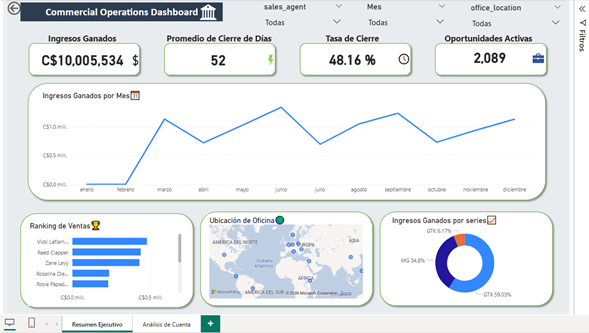

Layout of this report page (visuals, bound fields, positions):
{"tool":"powerbi","page":{"name":"Resumen Ejecutivo","canvas":[1280,720],"ordinal":0},"visuals":[{"type":"card","fields":{"Values":["sales_pipeline.Ingresos Ganados"]},"box":[39.8,113.1,272.4,46.3],"z":0},{"type":"card","fields":{"Values":["sales_pipeline.Tasa de Cierre"]},"box":[715.8,105.4,150.4,57.8],"z":1000},{"type":"actionButton","box":[0,0,100,40],"z":2000},{"type":"card","fields":{"Values":["sales_pipeline.Oportunidades Activas"]},"box":[1035.8,99,134.9,64.3],"z":3000},{"type":"clusteredBarChart","title":"Ranking de Ventas🏆","fields":{"Y":["sales_pipeline.Ingresos Ganados"],"Category":["sales_teams.sales_agent"]},"box":[50.1,501.2,356,196.6],"z":4000},{"type":"card","fields":{"Values":["sales_pipeline.Promedio dias de cierre"]},"box":[420.2,99,127.2,74.5],"z":5000},{"type":"lineChart","title":"Ingresos Ganados por Mes📆","fields":{"Category":["Calendario.Mes"],"Y":["sales_pipeline.Ingresos Ganados"]},"box":[79.7,204.3,1120.6,246.7],"z":6000},{"type":"donutChart","title":"Ingresos Ganados por series📈","fields":{"Category":["products.series"],"Y":["sales_pipeline.Ingresos Ganados"]},"box":[876.5,489.6,340.6,204.3],"z":7000},{"type":"map","title":"Ubicación de Oficina🌍","fields":{"Category":["accounts.office_location"]},"box":[460.1,489.6,358.6,196.6],"z":8000},{"type":"textbox","box":[92.5,70.7,165.8,34.7],"z":9000},{"type":"textbox","box":[362.4,70.7,260.9,39.8],"z":10000},{"type":"textbox","box":[724.8,70.7,141.4,39.8],"z":11000},{"type":"textbox","box":[996,70.7,215.9,39.8],"z":12000},{"type":"slicer","fields":{"Values":["sales_pipeline.sales_agent"]},"box":[575.7,0,204.3,59.1],"z":13000},{"type":"slicer","fields":{"Values":["Calendario.Mes"]},"box":[811.6,0,204.3,59.1],"z":14000},{"type":"slicer","fields":{"Values":["accounts.office_location"]},"box":[1047.4,2.6,231.3,60.4],"z":15000}]}

Visuals, with their boxes on the page's 1280x720 design canvas (x1, y1, x2, y2). These are canvas units, not pixel positions in the 589x333 screenshot, which may show the page scaled, cropped or inside an application window:
card - sales_pipeline.Ingresos Ganados: (40,113,312,159)
card - sales_pipeline.Tasa de Cierre: (716,105,866,163)
actionButton: (0,0,100,40)
card - sales_pipeline.Oportunidades Activas: (1036,99,1171,163)
"Ranking de Ventas🏆" clusteredBarChart: (50,501,406,698)
card - sales_pipeline.Promedio dias de cierre: (420,99,547,174)
"Ingresos Ganados por Mes📆" lineChart: (80,204,1200,451)
"Ingresos Ganados por series📈" donutChart: (876,490,1217,694)
"Ubicación de Oficina🌍" map: (460,490,819,686)
textbox: (92,71,258,105)
textbox: (362,71,623,110)
textbox: (725,71,866,110)
textbox: (996,71,1212,110)
slicer - sales_pipeline.sales_agent: (576,0,780,59)
slicer - Calendario.Mes: (812,0,1016,59)
slicer - accounts.office_location: (1047,3,1279,63)
